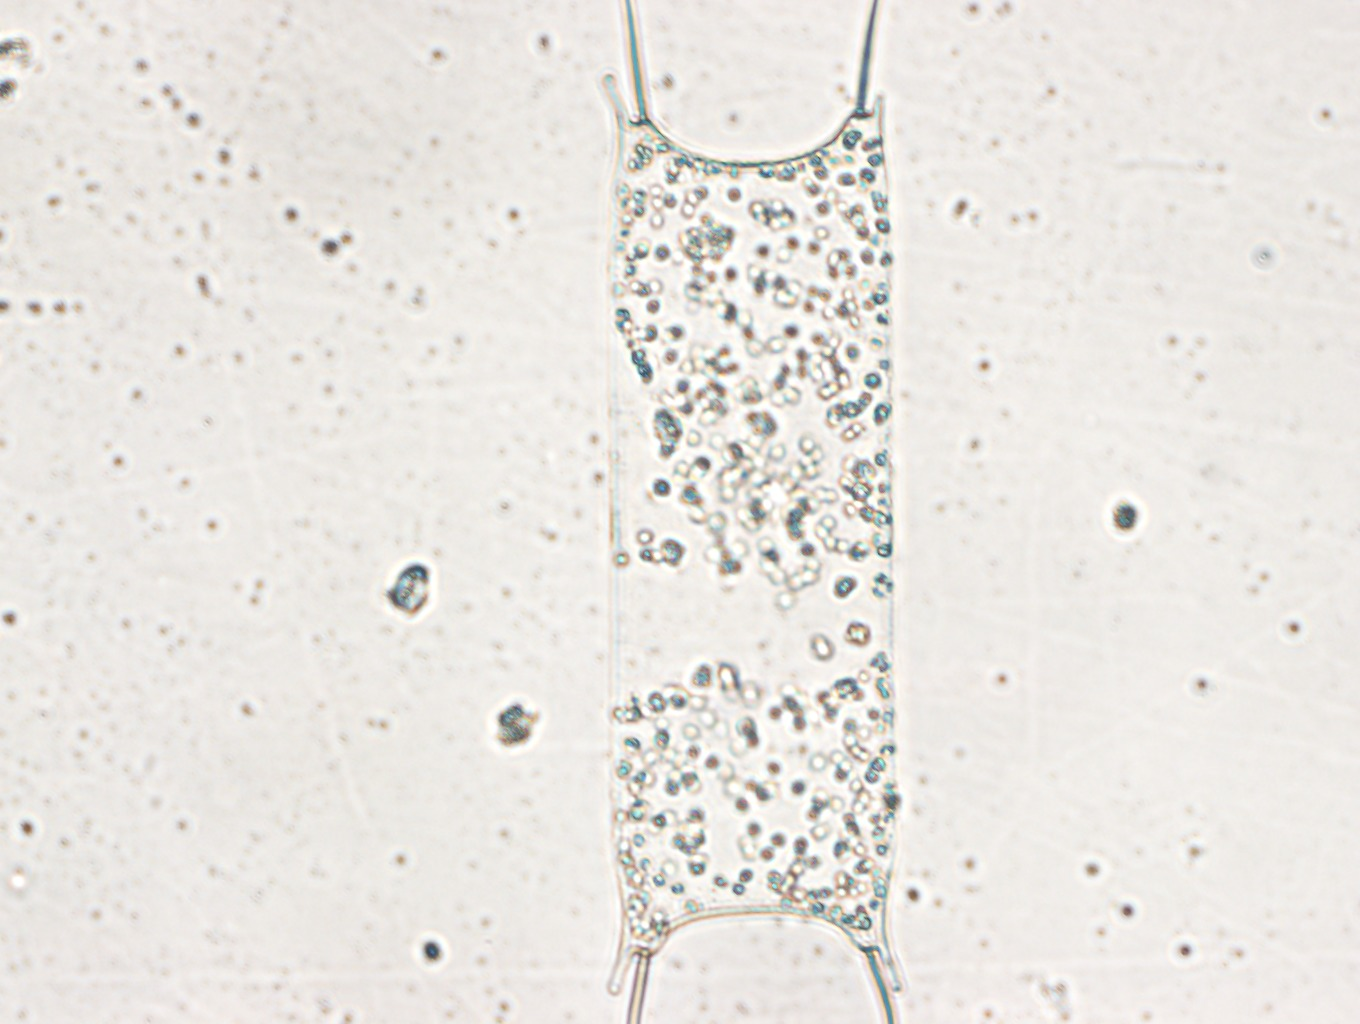biddulphia: (595, 1, 905, 1024)
